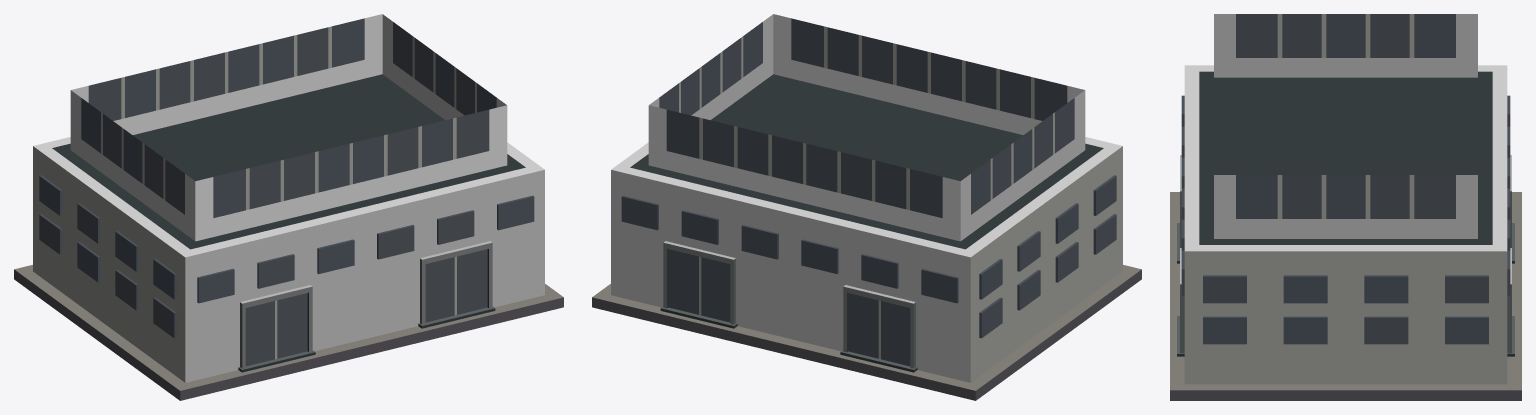
Rendered from TB_CITY_Skysc_A_Bottom_Gray.FBX.
The picture shows the model from 3 angles, left to right: view 1: azimuth 30°, elevation 25°; view 2: azimuth 150°, elevation 25°; view 3: azimuth 270°, elevation 25°; orthographic projection. The views are drawn at different scales.
Parts seen in each view (by area): view 1: TB_CITY_Skysc_A_Bottom_Gray; view 2: TB_CITY_Skysc_A_Bottom_Gray; view 3: TB_CITY_Skysc_A_Bottom_Gray.
Boxes of the visible parts, x1=… form: TB_CITY_Skysc_A_Bottom_Gray: x1=14, y1=14, x2=563, y2=400; TB_CITY_Skysc_A_Bottom_Gray: x1=592, y1=14, x2=1141, y2=400; TB_CITY_Skysc_A_Bottom_Gray: x1=1170, y1=14, x2=1521, y2=400.
Bounding box in the file's own units: 32 × 15.6 × 24.
